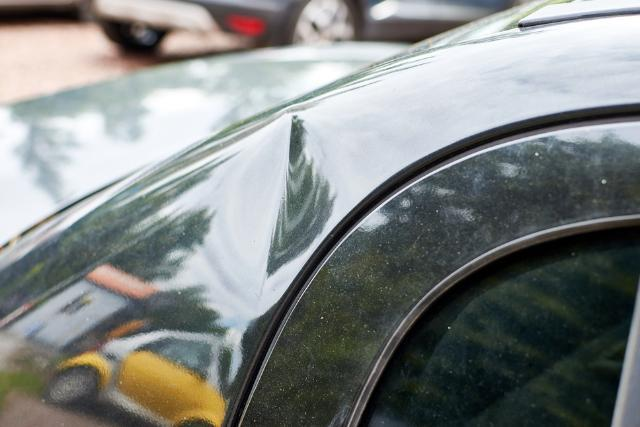Fender: (251, 96, 351, 279)
